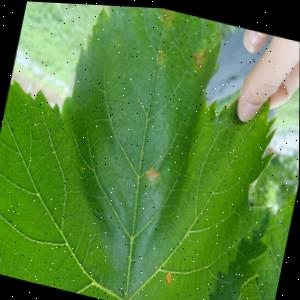Folha: (0, 0, 300, 300)
Fungo: (191, 43, 208, 66), (145, 164, 161, 181), (156, 46, 167, 65), (165, 270, 173, 283)
